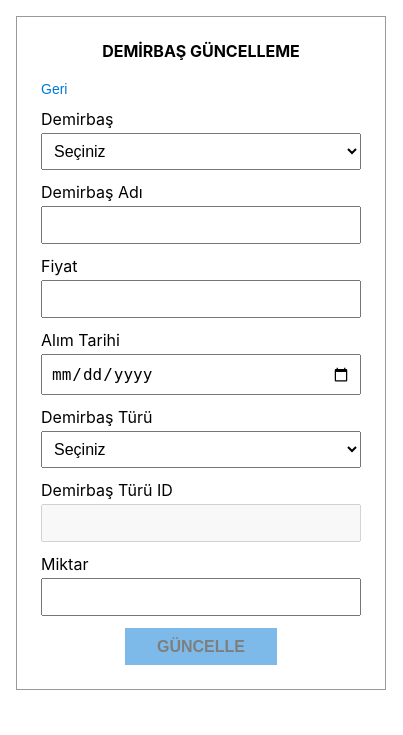
Scenario: StockUpdate › shows the generic failure message when updateFixedAsset rejects for any reason
The image size is (403, 735).
Select "Monitör" in the dropdown labelled "Demirbaş" at (201, 152), box [41,133,361,170]
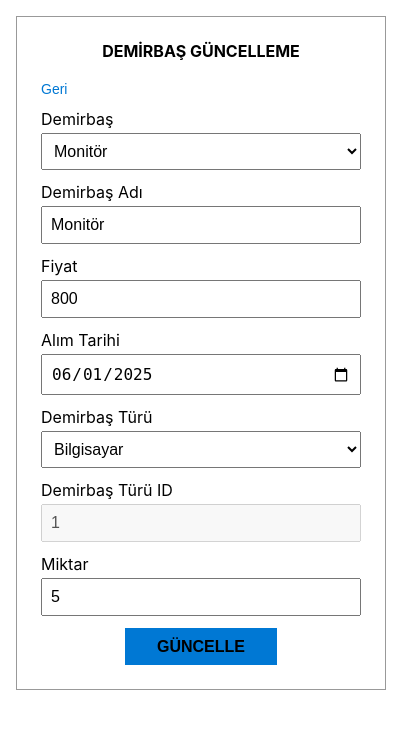
Click the button "GÜNCELLE".
click(201, 647)  # box [125,628,277,665]
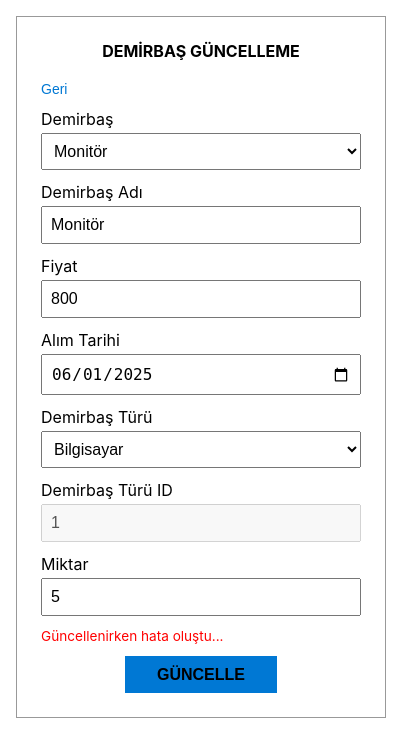
Expected: the text "Güncellenirken hata oluştu..." is shown, [41,628,224,644]
